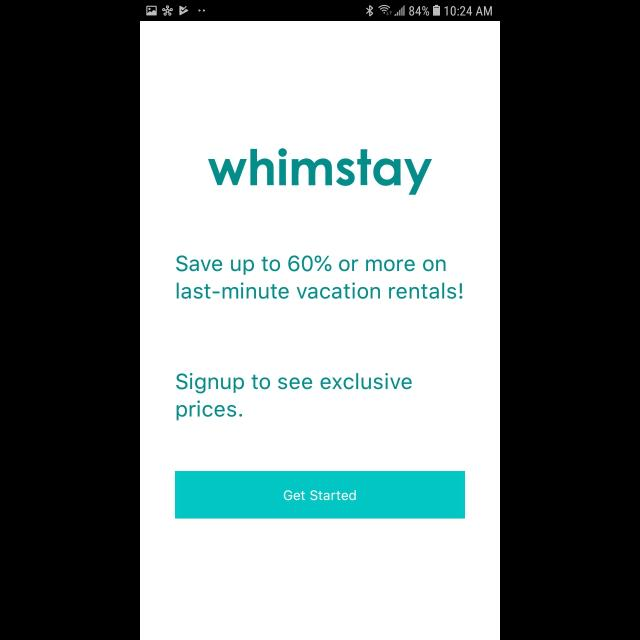text: (176, 255, 464, 299), (176, 373, 412, 421), (208, 148, 432, 196)
textbutton: (175, 471, 465, 519)
uppertaskbar: (140, 1, 500, 22)
